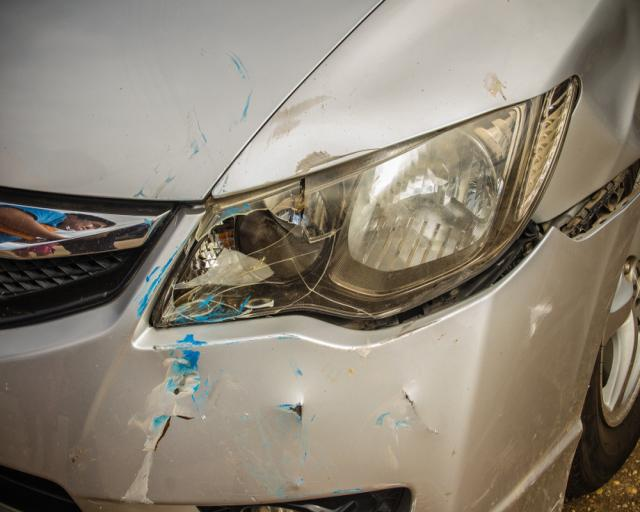dent: (558, 0, 640, 139)
lamp broken: (150, 79, 580, 330)
scratch: (146, 54, 255, 200), (127, 339, 205, 508), (265, 95, 381, 172), (230, 400, 310, 496)
